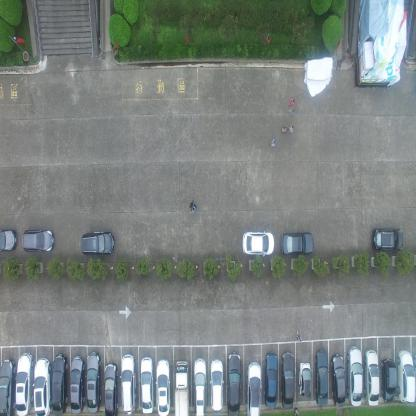car: (14, 351, 33, 415), (86, 351, 102, 415), (33, 356, 50, 416), (120, 352, 136, 415), (51, 352, 67, 415), (348, 343, 363, 408), (0, 355, 16, 415), (226, 352, 241, 415), (242, 228, 275, 256), (80, 229, 115, 255), (281, 350, 296, 410), (69, 355, 84, 415), (398, 348, 414, 404), (365, 348, 380, 407), (246, 360, 262, 415), (173, 360, 189, 415), (380, 355, 398, 403), (156, 358, 171, 415), (331, 351, 346, 407), (140, 356, 154, 416), (315, 348, 329, 407), (281, 230, 314, 255), (103, 361, 118, 416), (20, 228, 54, 252), (264, 351, 278, 409), (193, 357, 207, 415), (374, 225, 404, 251), (210, 358, 224, 413), (298, 358, 313, 398), (0, 227, 17, 251)
